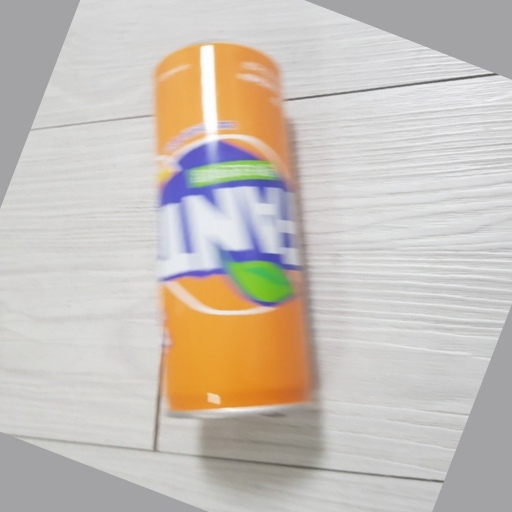Metal_0: (147, 40, 314, 429)
